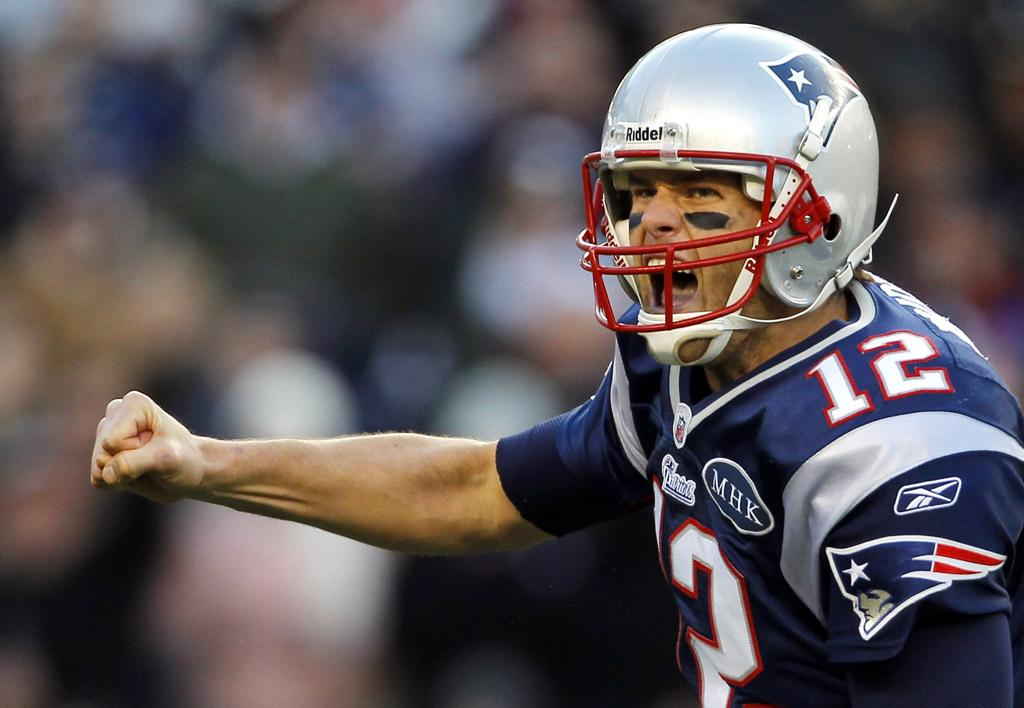face: (624, 146, 778, 366)
